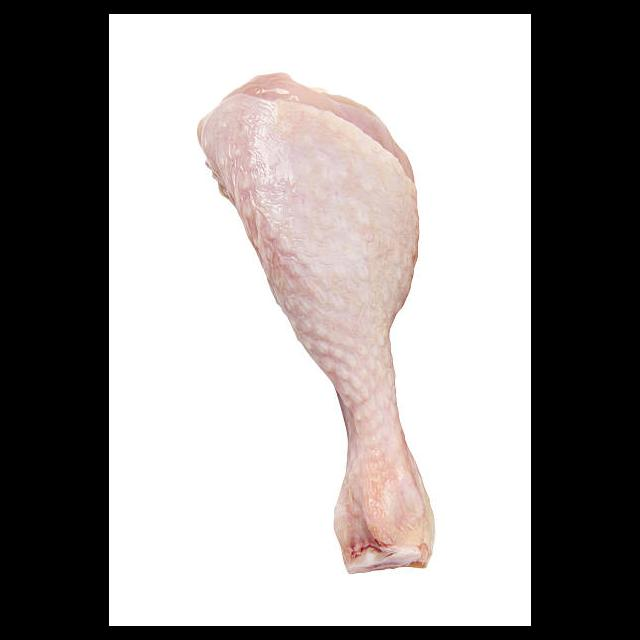chicken: (198, 70, 441, 576)
